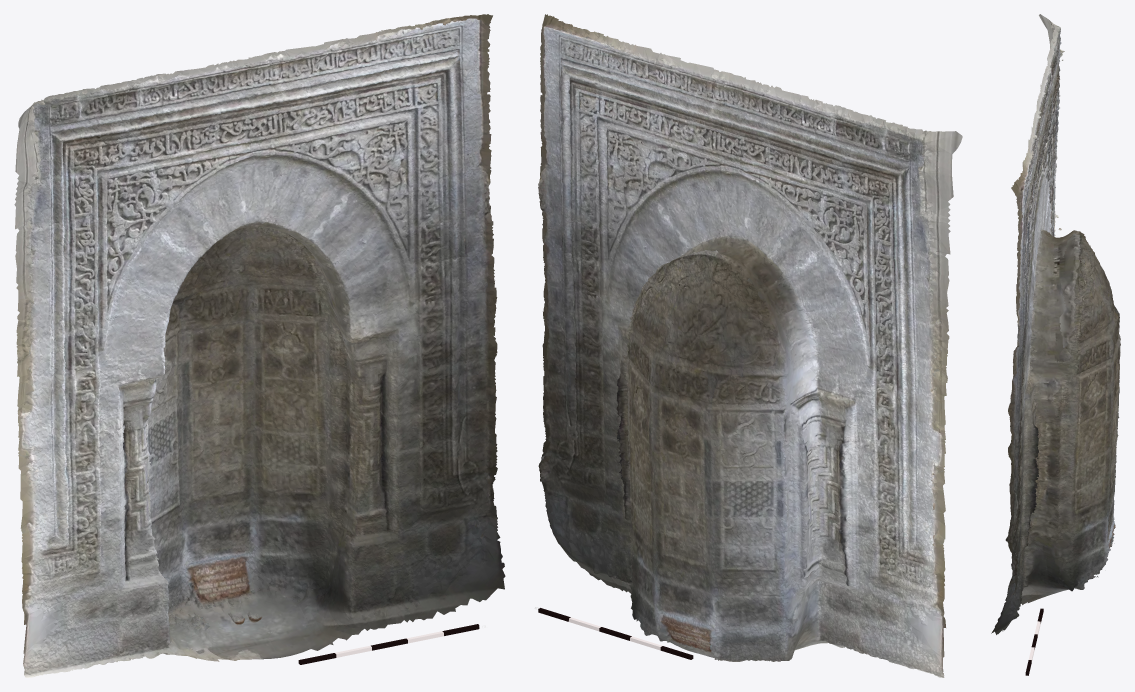
Rendered from preview.glb.
3 views of the same model, side by side, from view 1: azimuth 30°, elevation 25°; view 2: azimuth 150°, elevation 25°; view 3: azimuth 270°, elevation 25° (orthographic). The views are drawn at different scales.
Visible parts, largest first — view 1: Object_5; view 2: Object_5; view 3: Object_5.
Part boxes in pixels (x1,y1,x2,y2): Object_5: [14, 14, 505, 677]; Object_5: [538, 14, 962, 677]; Object_5: [991, 14, 1120, 634].
Bounding box in the file's own units: 2.69 × 3.48 × 0.8337.
Materials: 4 (1 with a texture image).
